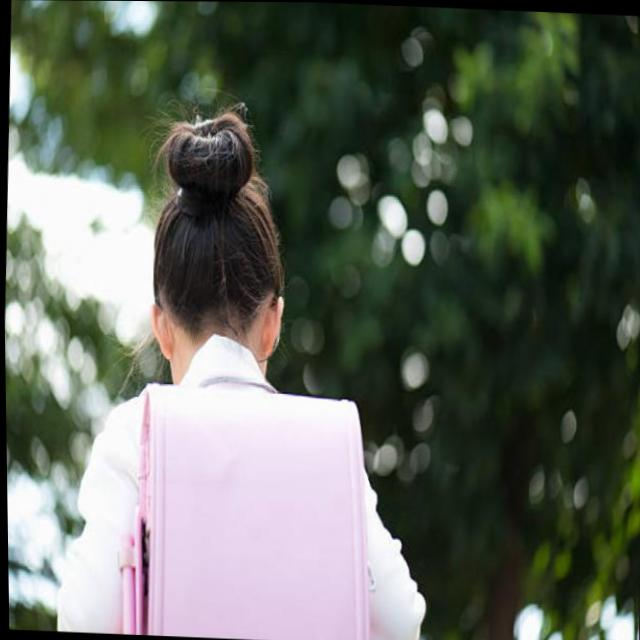no helmet: (143, 108, 294, 365)
